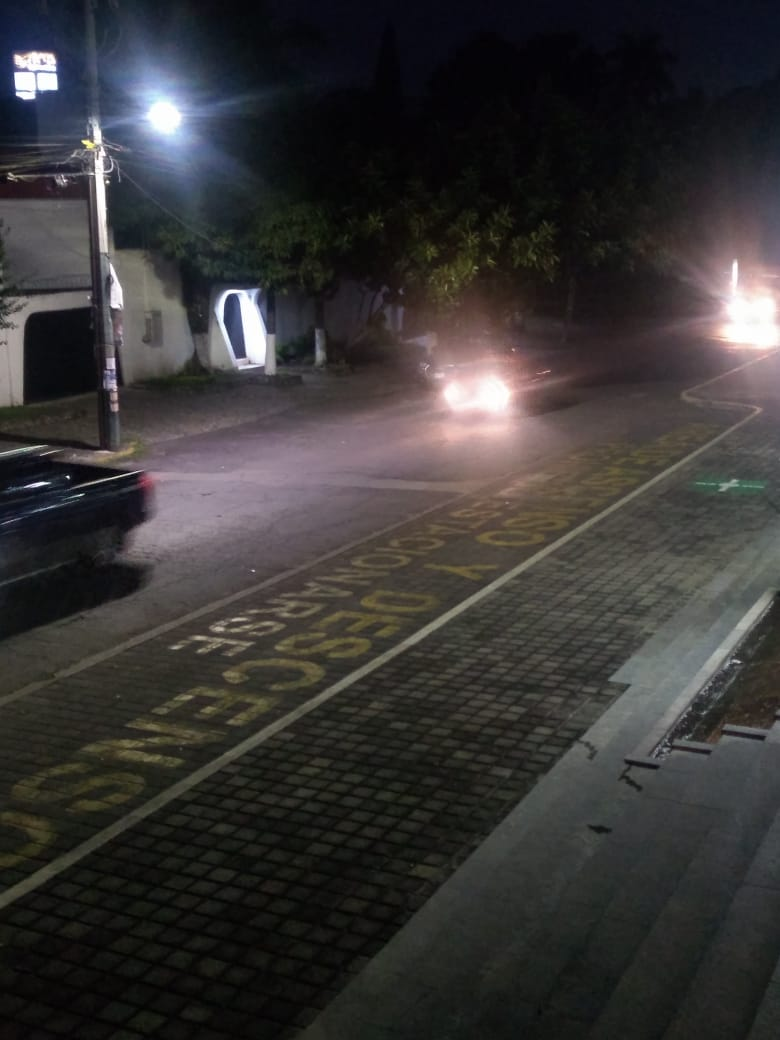Auto: (1, 438, 166, 600), (436, 340, 574, 419)
